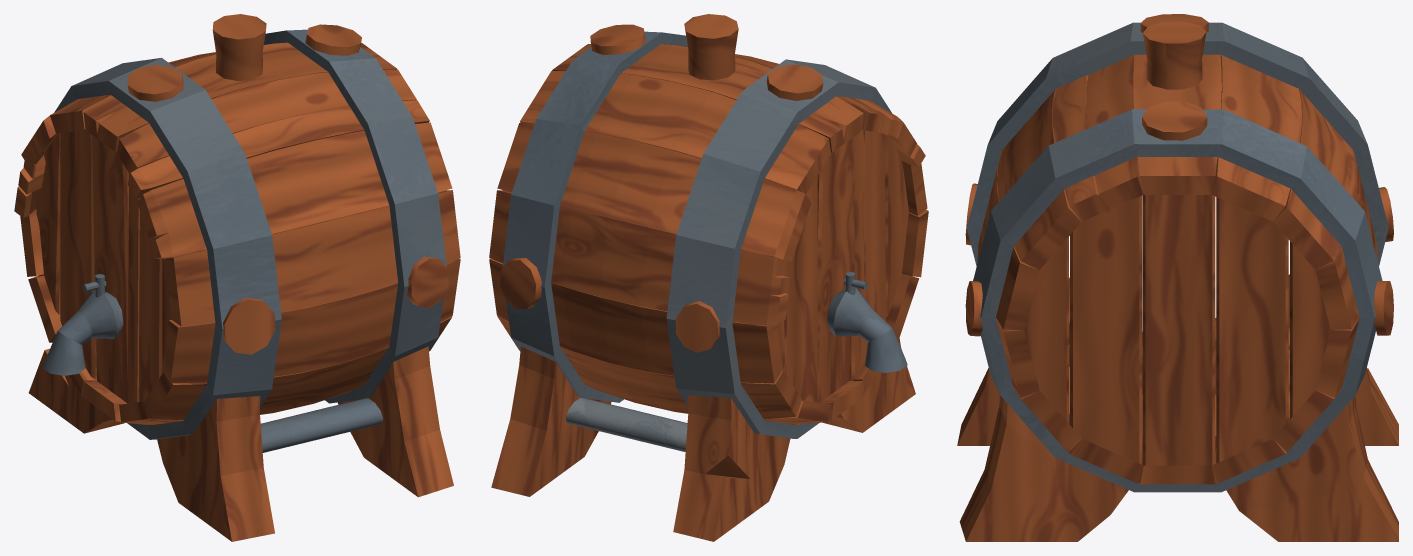
File: SM_BigBarrel.fbx
3 views of the same model, side by side, from view 1: azimuth 30°, elevation 25°; view 2: azimuth 150°, elevation 25°; view 3: azimuth 270°, elevation 25° (orthographic). The views are drawn at different scales.
Visible parts, largest first — view 1: SM_Large_Barrel; view 2: SM_Large_Barrel; view 3: SM_Large_Barrel.
Boxes of the visible parts, box(x1,y1,x2,y2) form: SM_Large_Barrel: box(14, 14, 460, 541); SM_Large_Barrel: box(489, 14, 928, 541); SM_Large_Barrel: box(957, 14, 1398, 541).
Size of the model in its own units: 273 by 325 by 290.
